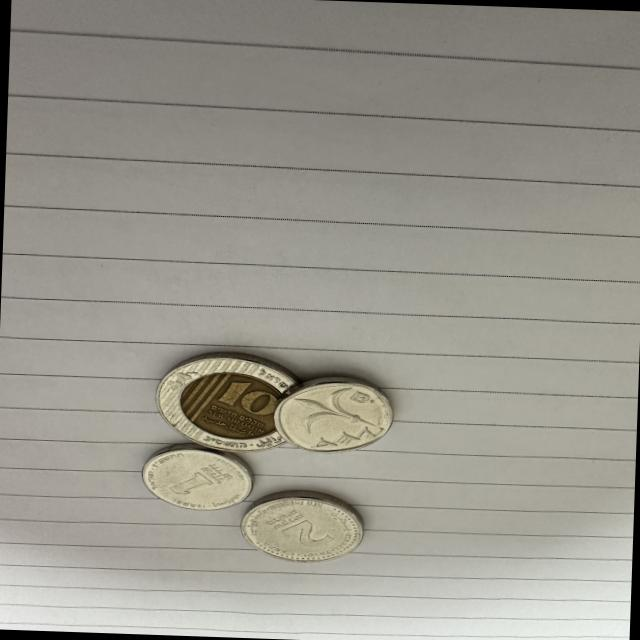1-shekel: (270, 378, 398, 454), (140, 446, 254, 512)
10-shekel: (147, 352, 303, 456)
2-shekel: (236, 488, 364, 564)
